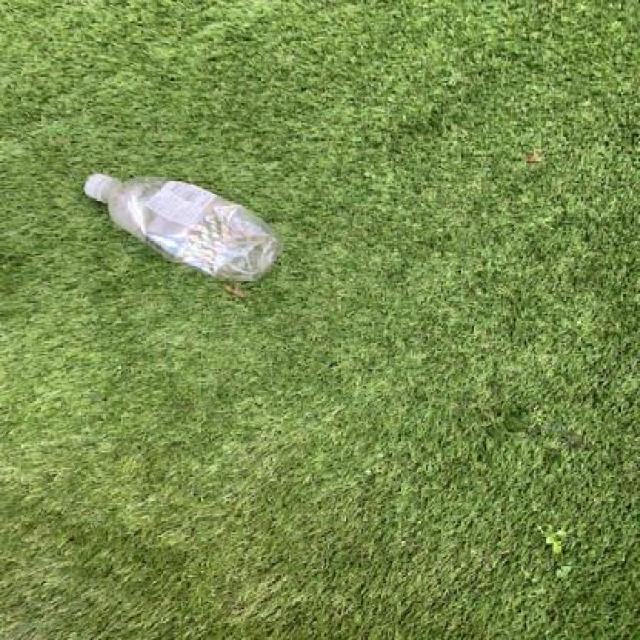trash: (75, 167, 292, 291)
